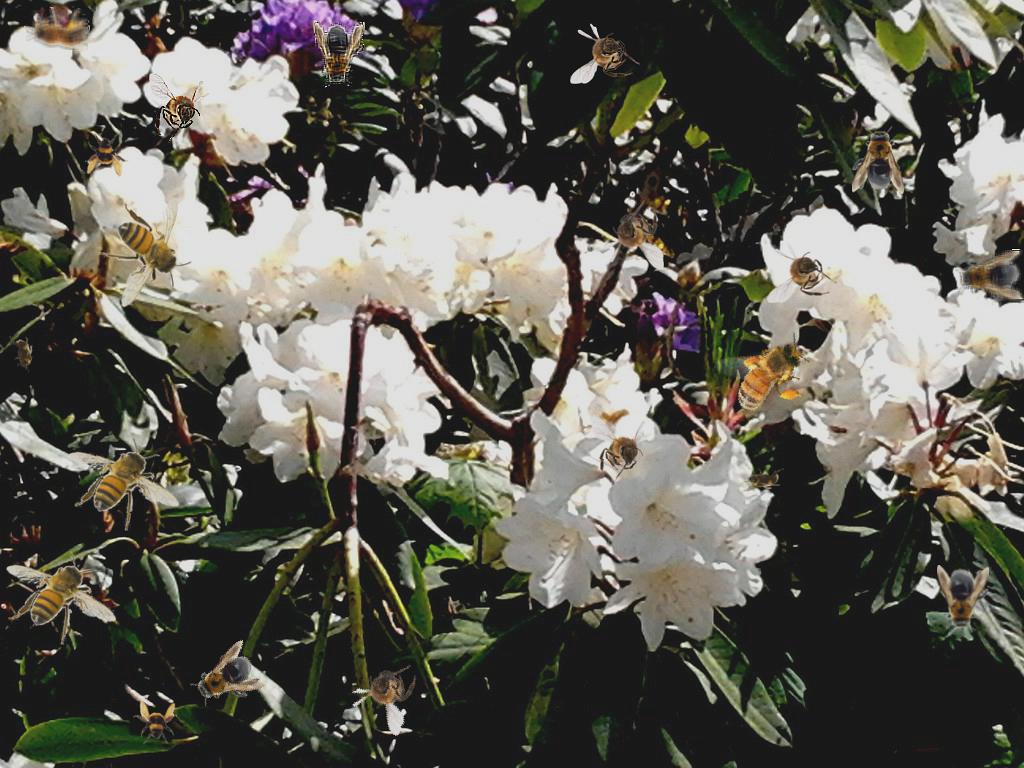Bee: (68, 436, 181, 532), (711, 329, 821, 424), (98, 197, 192, 308), (6, 551, 117, 645), (342, 647, 429, 737), (183, 639, 269, 719), (590, 412, 655, 486), (603, 200, 664, 270), (570, 23, 640, 84), (767, 242, 837, 303), (149, 73, 210, 143), (953, 248, 1024, 308), (852, 126, 904, 194), (937, 565, 989, 633), (313, 20, 365, 88), (24, 7, 90, 52), (133, 700, 177, 744), (85, 133, 129, 177), (9, 332, 37, 376), (744, 468, 784, 490)
